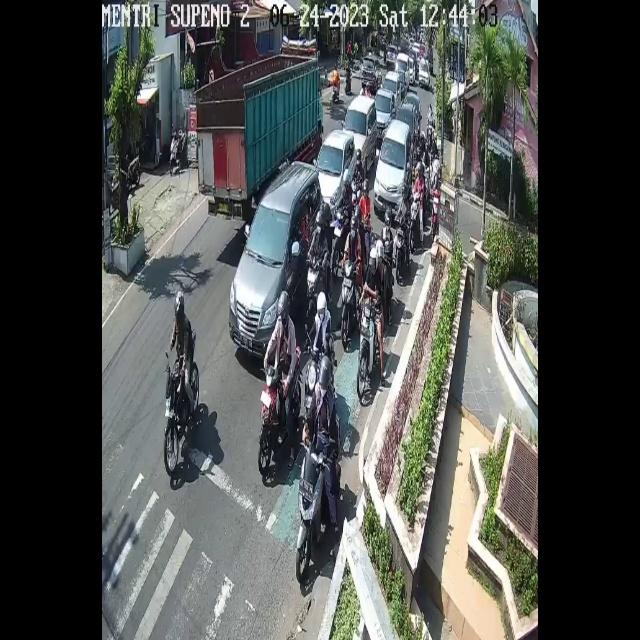bus: (294, 414, 341, 586), (257, 347, 302, 478), (165, 342, 200, 466), (302, 332, 334, 409), (356, 297, 378, 402), (338, 258, 356, 346), (306, 253, 329, 315), (332, 207, 349, 263), (394, 217, 408, 280), (410, 192, 421, 251), (432, 188, 442, 235), (350, 179, 360, 208), (422, 161, 431, 193)
car: (196, 39, 324, 218)
motorcycle: (229, 161, 327, 357), (374, 120, 412, 222), (315, 128, 357, 219), (343, 92, 379, 179), (374, 88, 394, 136), (384, 70, 402, 118), (397, 102, 418, 143), (362, 58, 381, 92)
